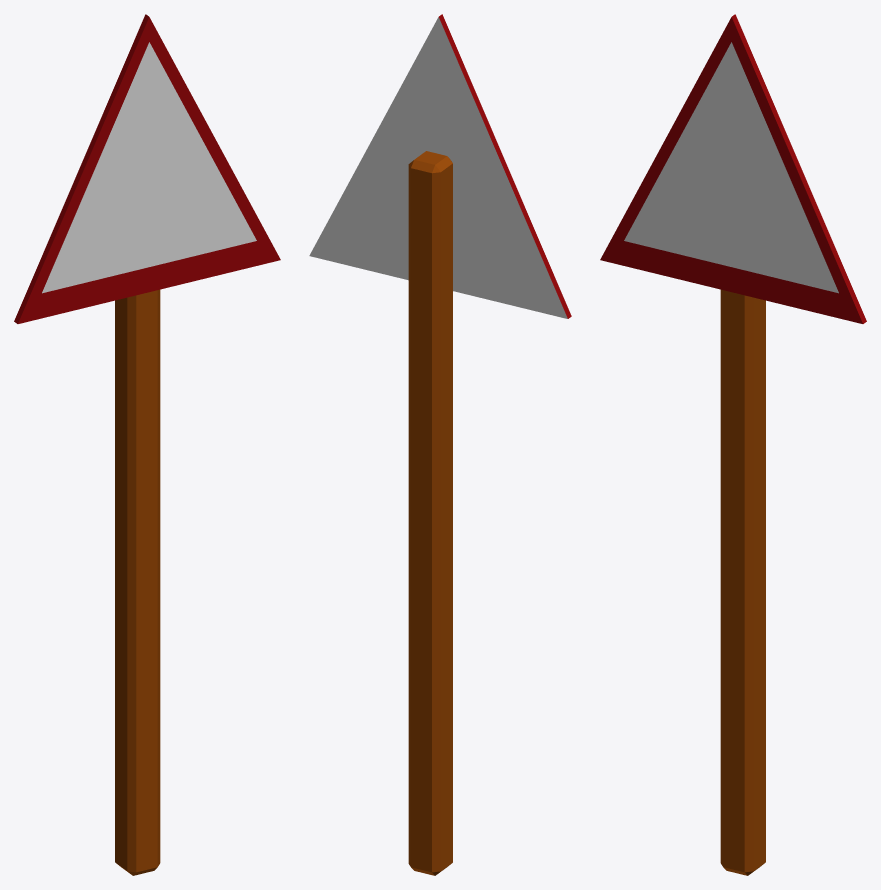
The model's file is znak2.fbx.
3 renders of one model, left to right at view 1: azimuth 30°, elevation 25°; view 2: azimuth 150°, elevation 25°; view 3: azimuth 330°, elevation 25°, orthographic.
Visible parts, largest first — view 1: Cube.001, Cube; view 2: Cube, Cube.001; view 3: Cube.001, Cube.
Part boxes in pixels (bbox=[...]): Cube.001: bbox=[14, 14, 280, 323]; Cube: bbox=[115, 289, 160, 875]; Cube: bbox=[408, 151, 452, 875]; Cube.001: bbox=[309, 14, 571, 318]; Cube.001: bbox=[600, 14, 866, 323]; Cube: bbox=[720, 289, 765, 875].
Bounding box in the file's own units: 80 × 250 × 11.2.
